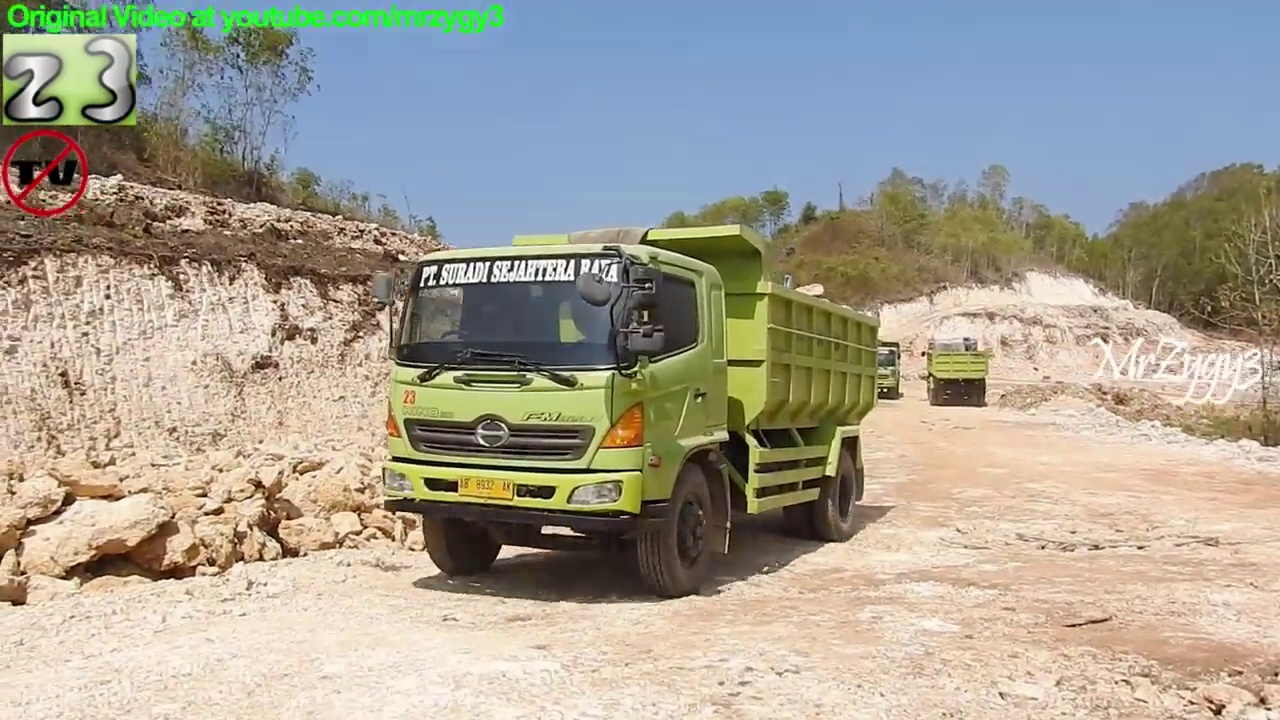truck: (369, 221, 885, 603), (919, 336, 995, 409), (841, 336, 905, 403)
